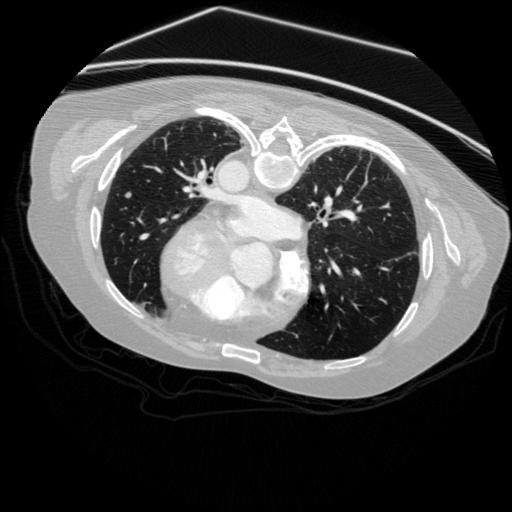nodule: (123, 189, 138, 204)
